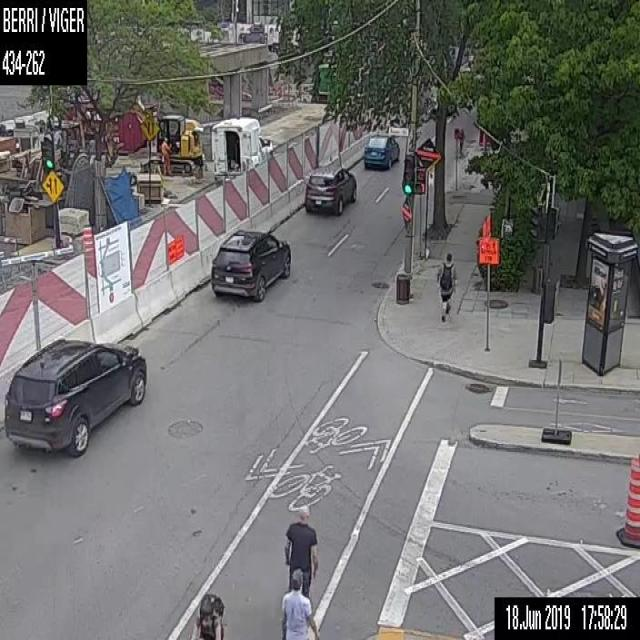construction: (0, 22, 444, 425), (616, 456, 639, 547), (476, 216, 501, 266), (80, 222, 93, 255)
pedestrian: (282, 503, 318, 596), (279, 564, 320, 638), (435, 252, 457, 320), (161, 136, 171, 176)
vehicle: (2, 335, 146, 456), (208, 227, 291, 301), (303, 163, 356, 216), (189, 592, 224, 639), (362, 133, 400, 168)
